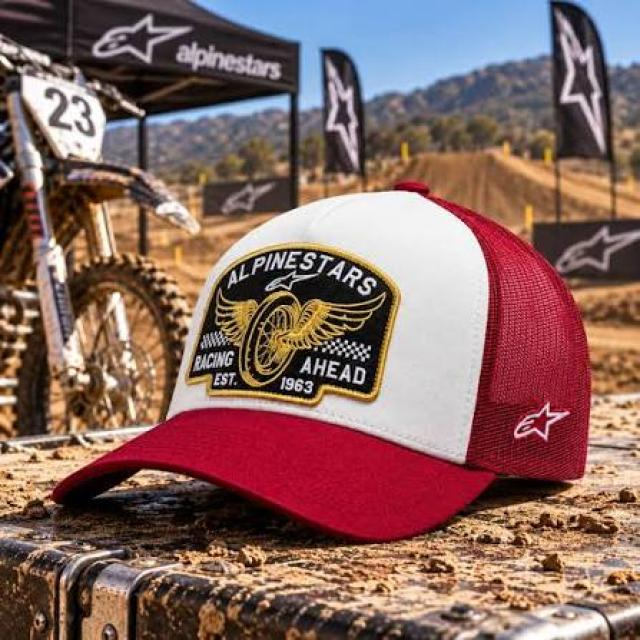Gorra: (47, 175, 600, 538)
